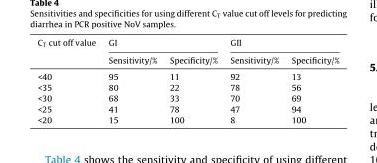table: (36, 36, 338, 124)
table column: (36, 36, 101, 124), (101, 36, 162, 124), (162, 36, 223, 124), (223, 36, 284, 124), (284, 36, 338, 124)
table column header: (36, 36, 338, 67)
table row: (36, 50, 338, 67), (36, 36, 338, 50), (36, 67, 338, 81), (36, 81, 338, 92), (36, 92, 338, 103), (36, 113, 338, 124), (36, 103, 338, 113)
table spanning cell: (36, 36, 101, 67), (101, 36, 223, 50), (223, 36, 338, 50)
